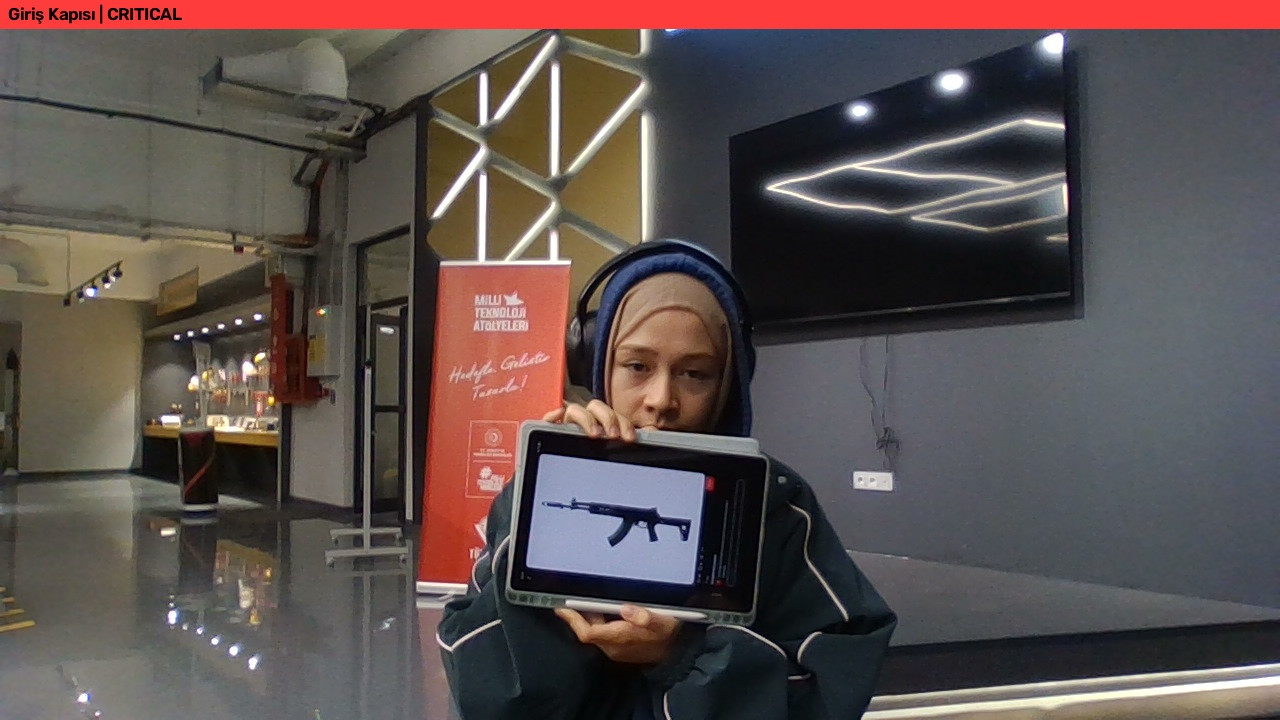weapon: (556, 486, 668, 538)
